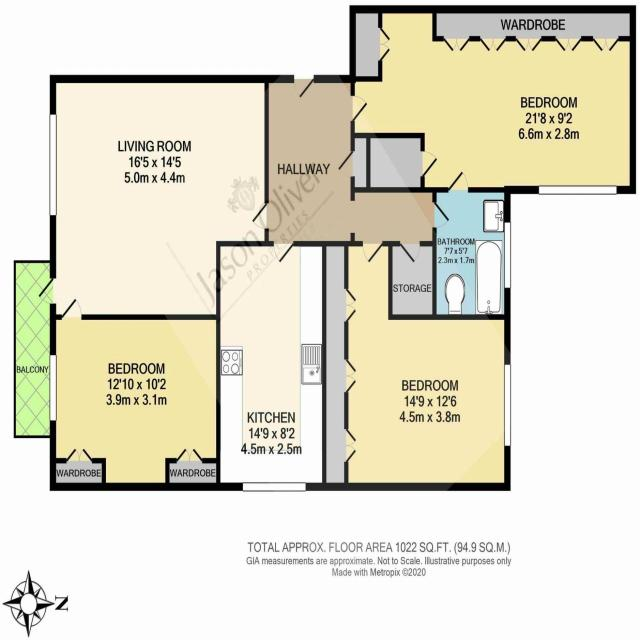DOOR: (337, 149, 355, 180), (361, 240, 384, 264), (350, 93, 368, 123), (433, 199, 449, 231), (38, 275, 55, 305), (293, 74, 314, 98), (273, 241, 295, 263), (421, 149, 437, 179), (251, 203, 268, 231), (399, 242, 422, 262), (62, 299, 83, 315)
ROOM: (39, 75, 270, 320), (343, 241, 511, 492), (48, 299, 222, 492), (217, 239, 326, 493)
WINDOW: (537, 184, 619, 197), (48, 113, 57, 218), (502, 362, 512, 452), (47, 355, 59, 425), (240, 480, 307, 492), (503, 222, 512, 293)
